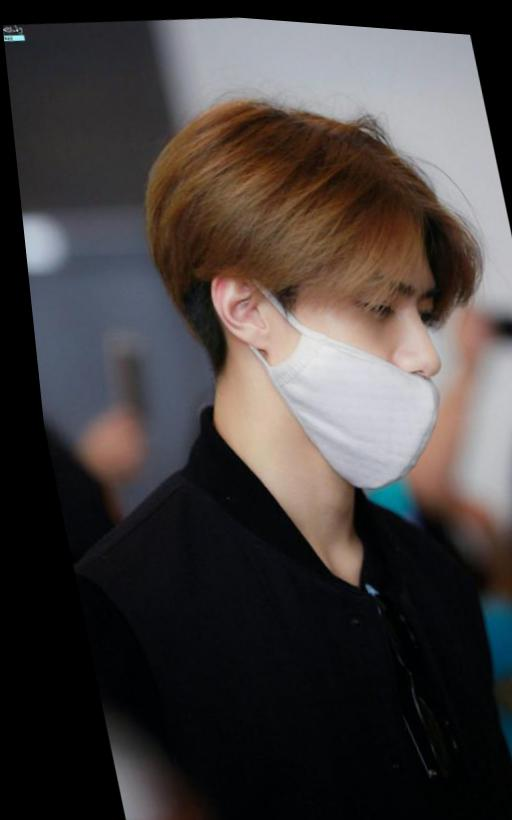WRONG: (196, 232, 463, 494)
